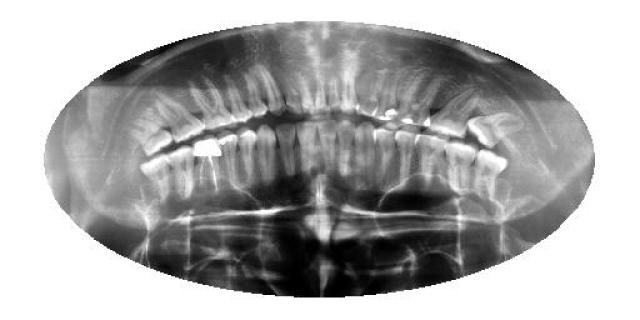Implant: (192, 138, 222, 190)
Restorations: (466, 106, 525, 150)
